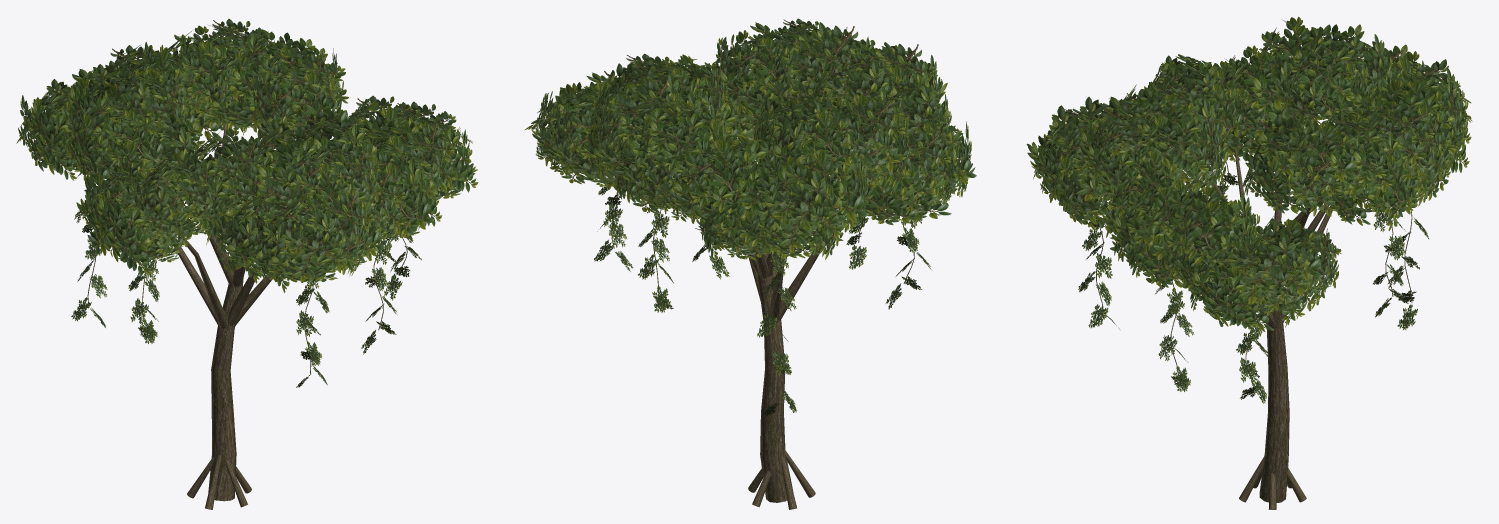
Rendered from tree_05.glb.
3 views of the same model, side by side, from view 1: azimuth 30°, elevation 25°; view 2: azimuth 150°, elevation 25°; view 3: azimuth 270°, elevation 25° (orthographic). The views are drawn at different scales.
Visible parts, largest first — view 1: tree_05; view 2: tree_05; view 3: tree_05.
Boxes of the visible parts, x1,y1,x2,y2 form: tree_05: [16, 19, 478, 509]; tree_05: [524, 18, 976, 509]; tree_05: [1026, 16, 1472, 509].
Bounding box in the file's own units: 10.33 × 10.27 × 10.11.
Materials: 2 (2 with a texture image).
